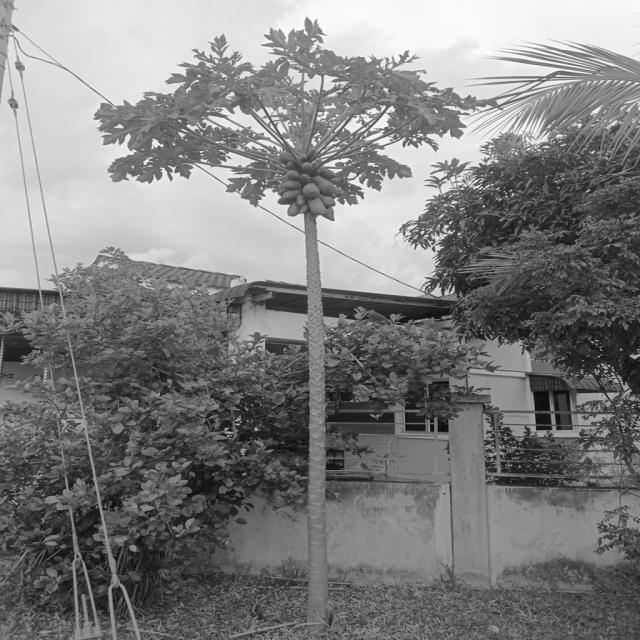Papaya-Tree: (101, 19, 473, 596)
